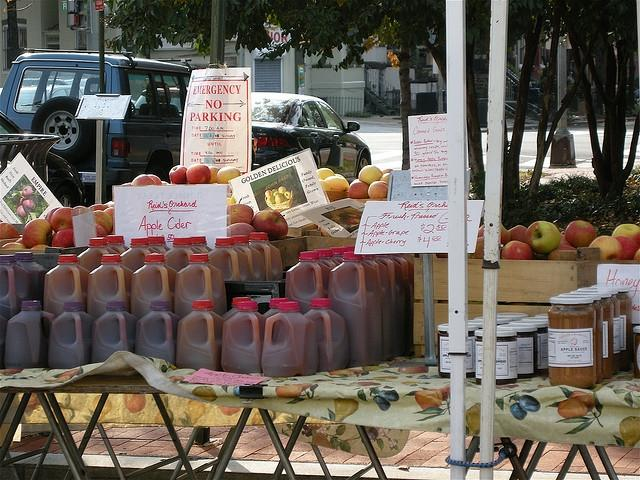apple: (526, 221, 561, 255), (252, 210, 288, 242), (565, 220, 597, 250), (22, 218, 52, 249), (589, 236, 623, 260), (50, 206, 74, 234), (612, 223, 640, 246), (230, 199, 253, 225), (502, 241, 532, 260), (186, 164, 211, 184), (359, 165, 382, 186), (95, 210, 114, 235), (230, 222, 256, 240), (52, 228, 75, 248), (217, 166, 240, 184), (0, 222, 23, 240), (326, 176, 350, 192), (349, 181, 370, 199), (508, 226, 528, 244), (368, 180, 388, 198), (170, 165, 188, 184), (131, 174, 156, 186), (556, 234, 572, 250), (316, 168, 336, 180), (0, 242, 27, 249), (89, 204, 110, 212), (72, 206, 91, 214), (271, 189, 278, 194)
